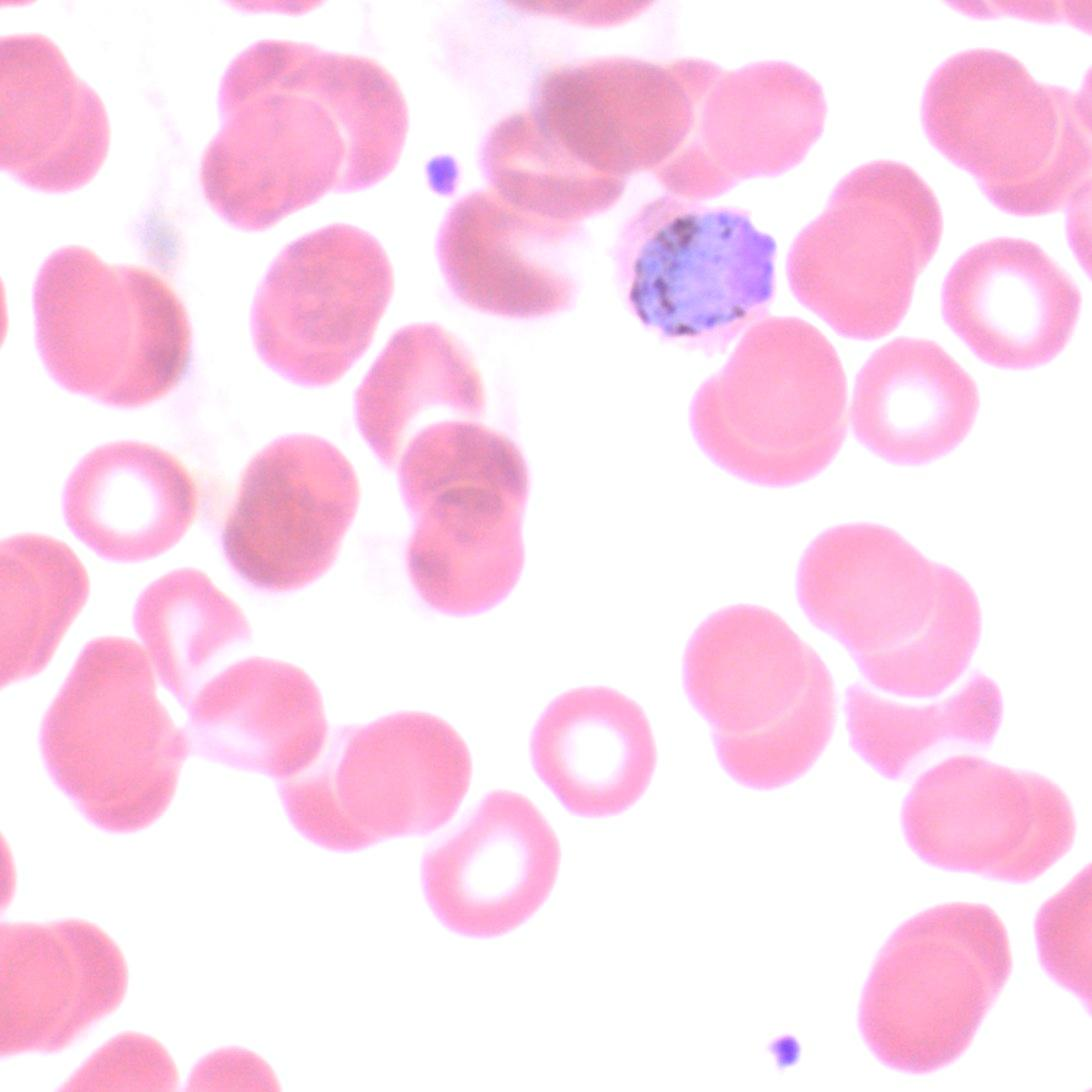Infected: (598, 196, 783, 355)
Uninfected: (39, 637, 180, 838), (256, 228, 393, 385), (903, 756, 1072, 883), (224, 434, 359, 591), (833, 559, 981, 700), (870, 903, 1030, 1032), (790, 190, 928, 338), (924, 47, 1065, 190), (205, 89, 349, 229), (421, 791, 556, 938), (942, 233, 1080, 374), (720, 313, 853, 457), (685, 373, 843, 489), (715, 643, 838, 792), (797, 518, 934, 651), (189, 657, 329, 782), (546, 57, 693, 176), (438, 194, 575, 320), (846, 667, 999, 779), (685, 601, 810, 737), (356, 325, 480, 460), (335, 716, 467, 840), (864, 942, 990, 1071), (295, 49, 407, 193), (697, 60, 827, 183), (63, 440, 195, 561), (531, 687, 654, 815), (35, 245, 140, 394), (858, 336, 980, 464), (643, 59, 751, 202), (478, 120, 622, 226), (133, 568, 246, 702), (218, 36, 343, 156), (95, 263, 193, 414), (406, 499, 522, 618), (4, 534, 87, 695), (1, 77, 109, 194), (401, 419, 522, 522), (2, 32, 80, 180), (2, 919, 90, 1047)
